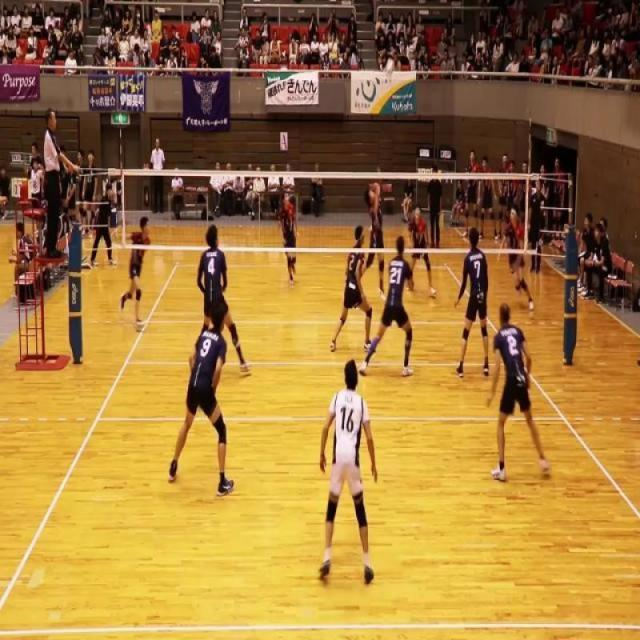volleyball: (385, 56, 395, 79)
